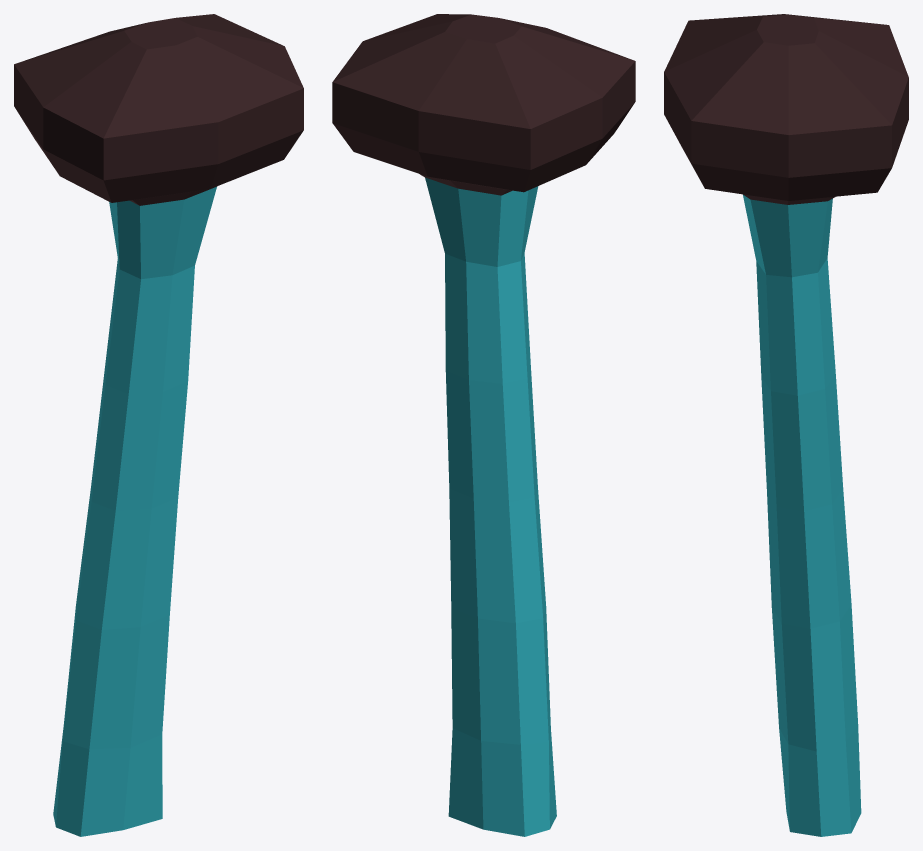
The model's file is Plant_small.fbx.
The picture shows the model from 3 angles, left to right: view 1: azimuth 30°, elevation 25°; view 2: azimuth 150°, elevation 25°; view 3: azimuth 270°, elevation 25°; orthographic projection. The views are drawn at different scales.
Visible parts, largest first — view 1: Plant_small; view 2: Plant_small; view 3: Plant_small.
Boxes of the visible parts, x1=… form: Plant_small: x1=14, y1=14, x2=303, y2=836; Plant_small: x1=332, y1=14, x2=635, y2=836; Plant_small: x1=664, y1=14, x2=908, y2=836.
Size of the model in its own units: 0.1648 by 0.5077 by 0.1406.
